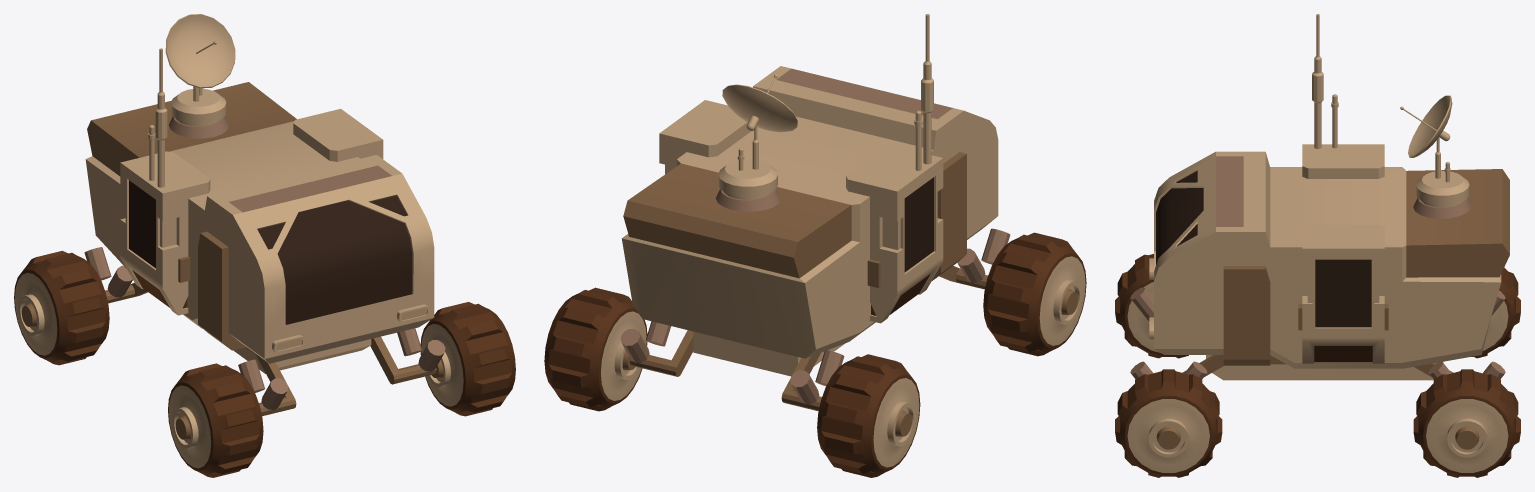
The model's file is block-rover1.glb.
3 renders of one model, left to right at view 1: azimuth 30°, elevation 25°; view 2: azimuth 150°, elevation 25°; view 3: azimuth 270°, elevation 25°, orthographic. The views are drawn at different scales.
Visible parts, largest first — view 1: Rover_1, Wheel_2, Wheel_4, Wheel_3; view 2: Rover_1, Wheel_4, Wheel_2, Wheel_1; view 3: Rover_1, Wheel_1, Wheel_3, Wheel_2, Wheel_4.
Part boxes in pixels (x1,y1,x2,y2): Rover_1: (84,14,445,416); Wheel_2: (168,363,263,477); Wheel_4: (14,250,109,365); Wheel_3: (420,302,515,416); Rover_1: (620,14,1010,411); Wheel_4: (817,354,920,477); Wheel_2: (983,232,1086,356); Wheel_1: (544,287,647,411); Rover_1: (1130,14,1509,380); Wheel_1: (1413,369,1520,477); Wheel_3: (1115,369,1222,477); Wheel_2: (1115,254,1188,358); Wheel_4: (1471,267,1520,358).
Bounding box in the file's own units: 2.2 × 2.34 × 2.48.
1 material, 1 textured.
